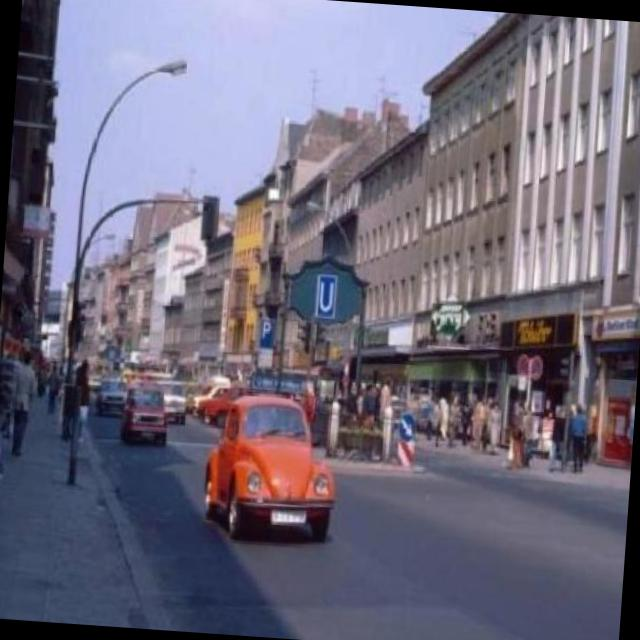car: (199, 386, 344, 546), (118, 382, 172, 438)
